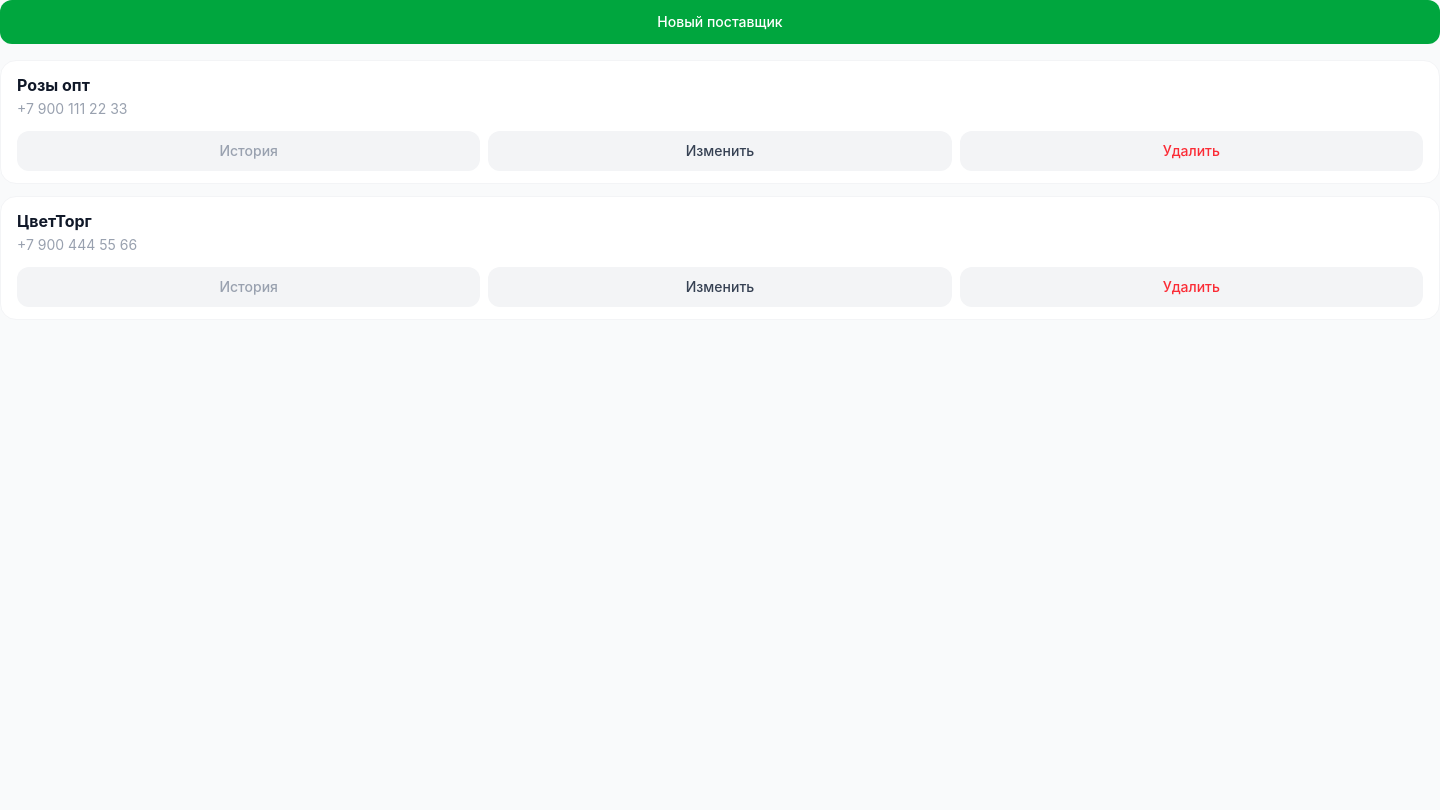
it: SuppliersPage › показывает диалог подтверждения при клике «Удалить»
Click the 1st button "Удалить" at (1191, 151), box 960,131 -> 1423,171
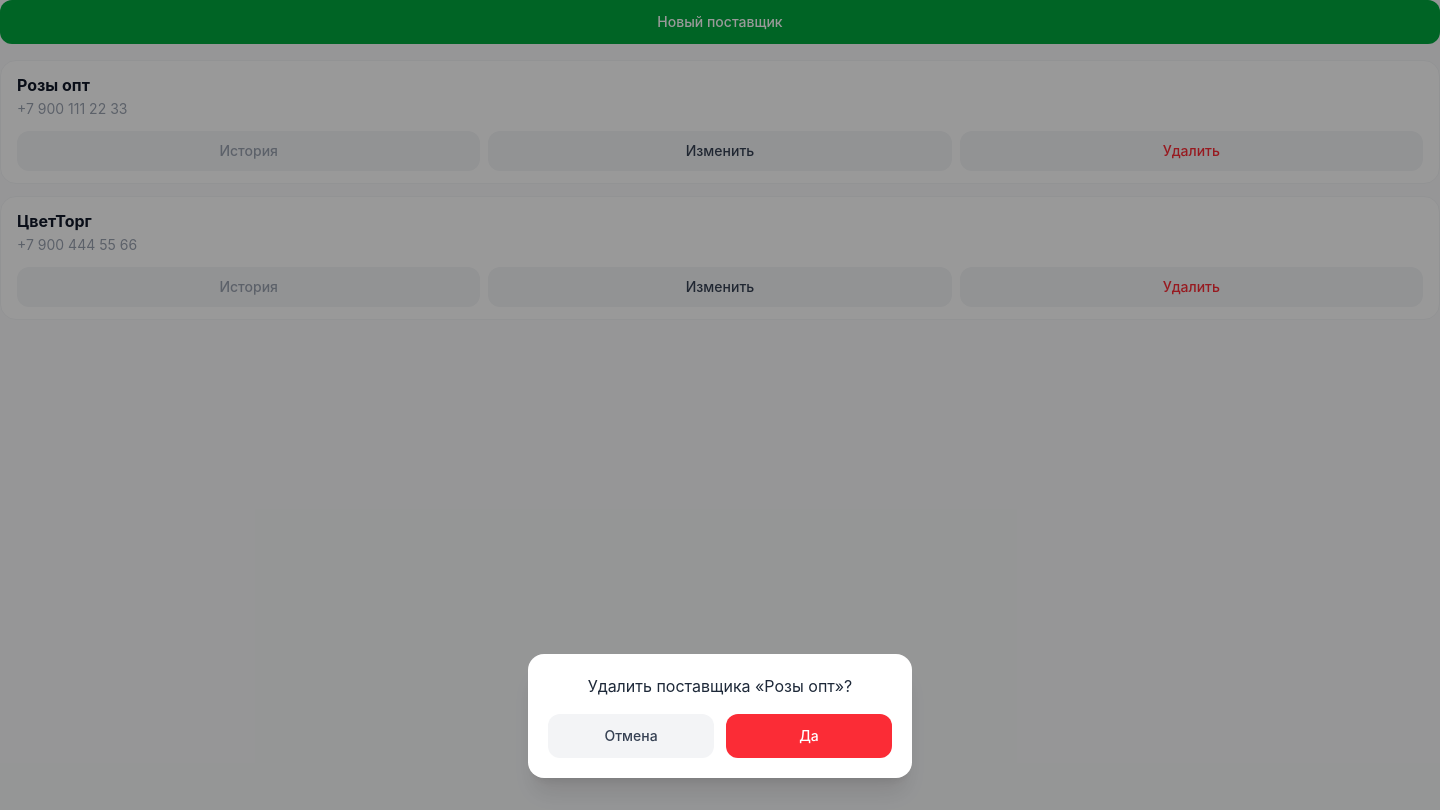
Expected: the text "Удалить поставщика «Розы опт»?" is shown, 588,676 -> 852,696
